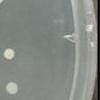white: (4, 48, 15, 62), (7, 82, 18, 94)
